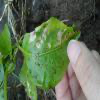Bell_pepper leaf: (22, 16, 82, 90)
